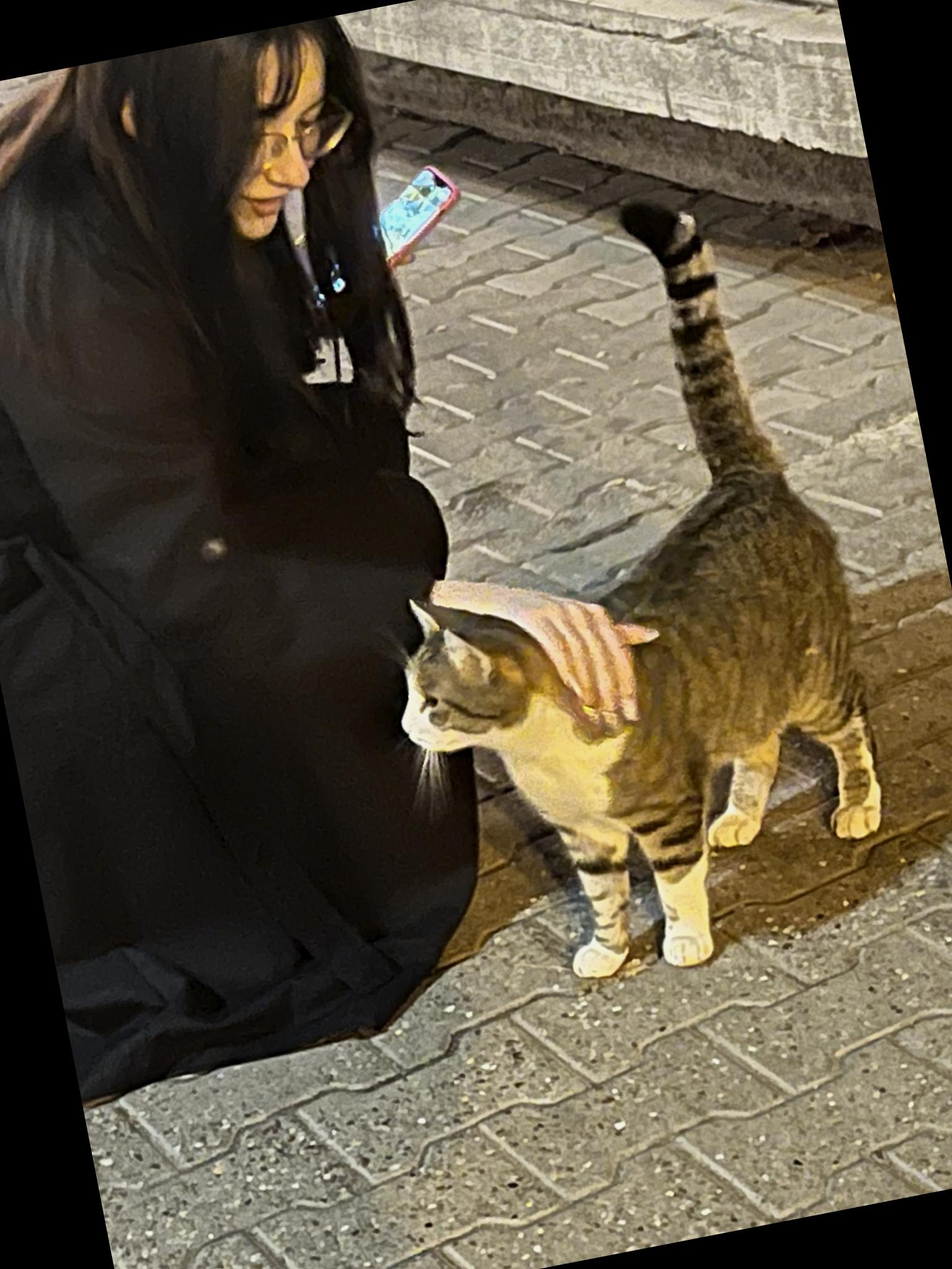macka: (309, 175, 916, 1012)
